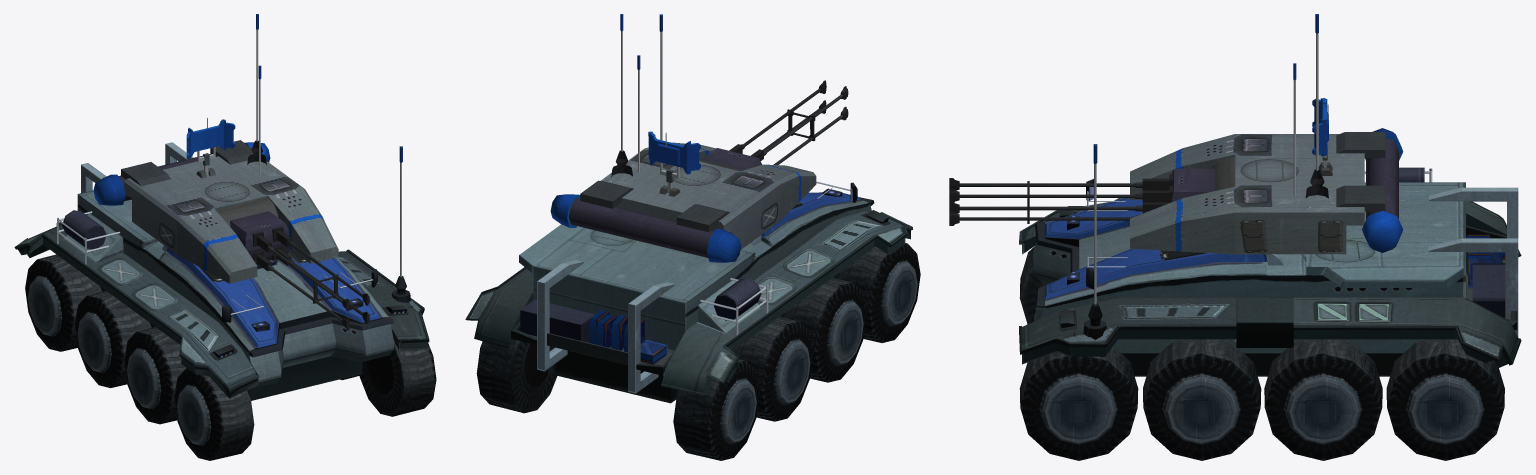
Rendered from blue_tank_01.FBX.
The picture shows the model from 3 angles, left to right: view 1: azimuth 30°, elevation 25°; view 2: azimuth 150°, elevation 25°; view 3: azimuth 270°, elevation 25°; orthographic projection. The views are drawn at different scales.
Parts seen in each view (by area): view 1: Body, Gun_Body, Wheel_05, Wheel_08, Wheel_07, Wheel_06, Wheel_01, Gun; view 2: Body, Gun_Body, Wheel_08, Wheel_06, Wheel_07, Wheel_05, Wheel_04, Gun; view 3: Body, Gun_Body, Wheel_03, Wheel_02, Wheel_04, Wheel_01, Gun, Wheel_05.
Boxes of the visible parts, <box> form: Body: <box>14,142,429,400</box>; Gun_Body: <box>93,14,338,283</box>; Wheel_05: <box>174,368,254,460</box>; Wheel_08: <box>25,254,101,351</box>; Wheel_07: <box>74,291,151,388</box>; Wheel_06: <box>124,327,186,424</box>; Wheel_01: <box>359,340,436,416</box>; Gun: <box>230,211,369,330</box>; Body: <box>465,14,912,403</box>; Gun_Body: <box>550,14,816,262</box>; Wheel_08: <box>673,359,759,460</box>; Wheel_06: <box>783,277,866,382</box>; Wheel_07: <box>732,316,813,421</box>; Wheel_05: <box>837,243,920,342</box>; Wheel_04: <box>476,340,557,413</box>; Gun: <box>701,80,848,170</box>; Body: <box>1019,144,1521,376</box>; Gun_Body: <box>1130,14,1403,254</box>; Wheel_03: <box>1264,339,1382,460</box>; Wheel_02: <box>1143,339,1261,460</box>; Wheel_04: <box>1386,339,1504,460</box>; Wheel_01: <box>1019,346,1138,460</box>; Gun: <box>949,168,1215,225</box>; Wheel_05: <box>1019,246,1044,324</box>.
Size of the model in its own units: 11.93 by 15.89 by 20.
